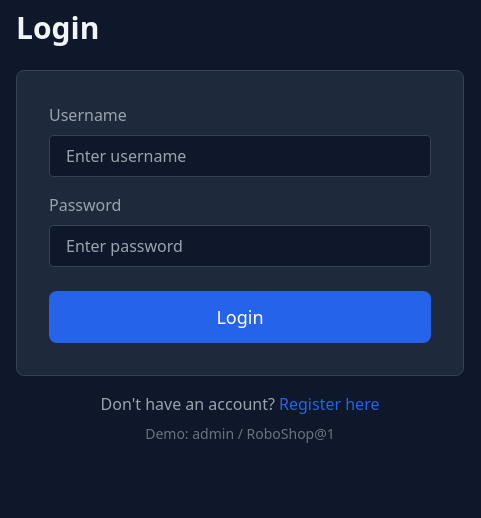
Login page › shows a generic error when fetch rejects
Type "x" into the field with placeholder "Enter username" at (240,156), box [49,135,431,177]
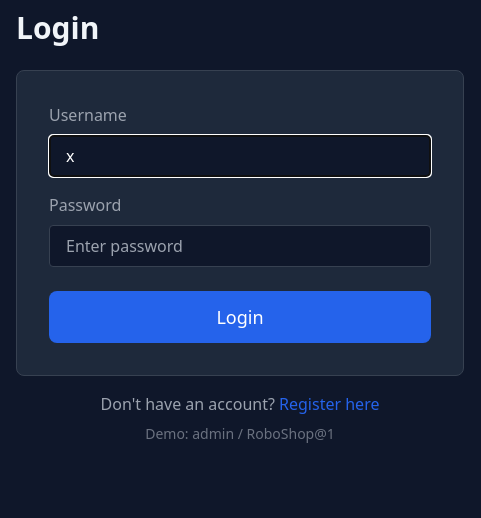
Type "y" into the password field with placeholder "Enter password" at (240,246), box [49,225,431,267]
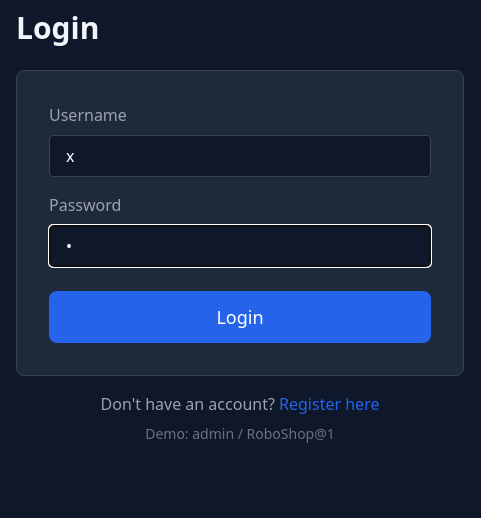
Click the button "Login" at (240,317), box [49,291,431,343]
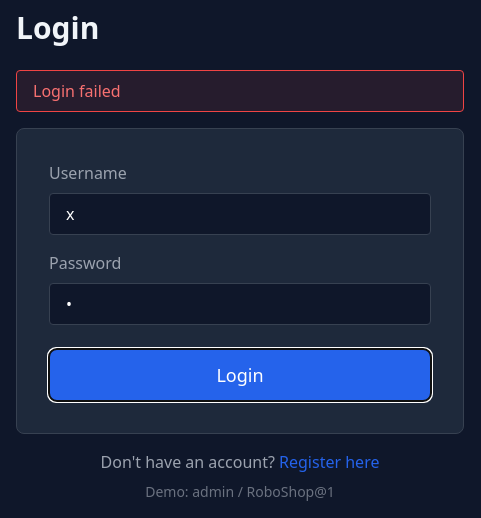
Expected: the text "Login failed" is shown, [16,70,464,112]
